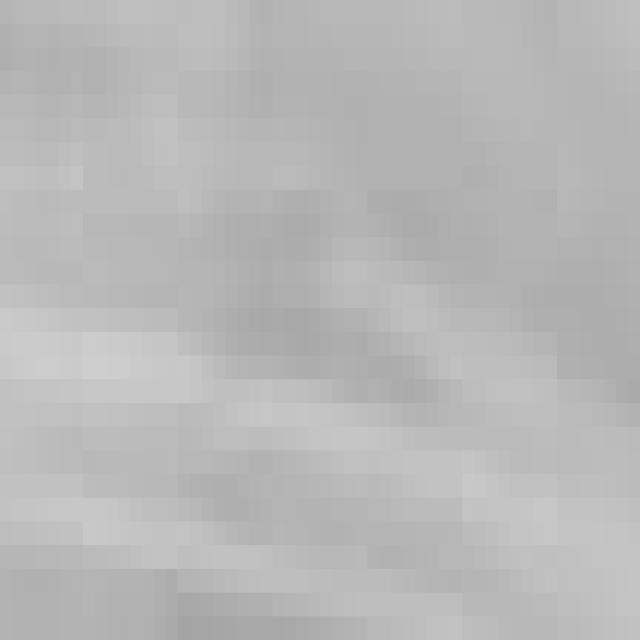fracture: (12, 13, 635, 640)
